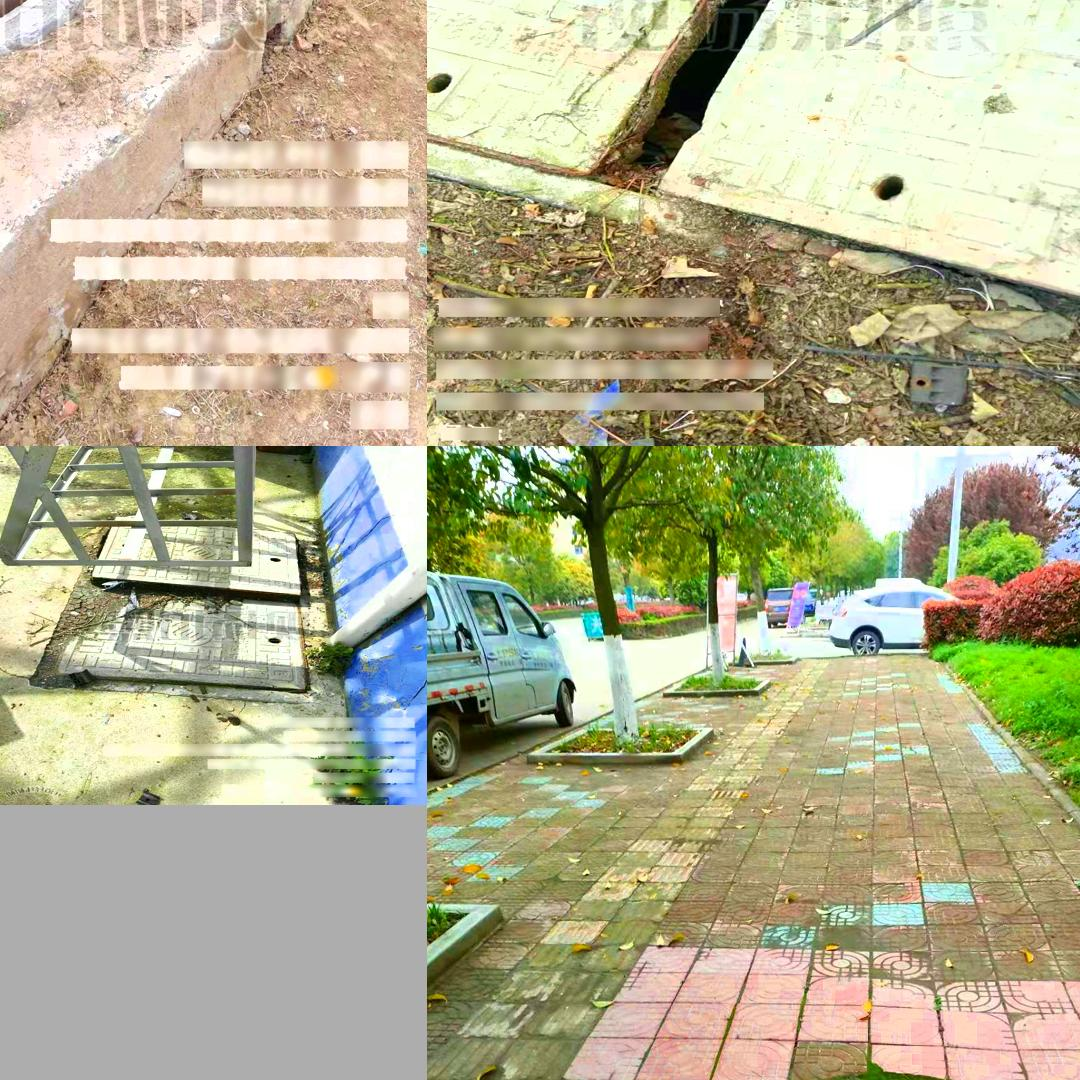uncovered: (430, 0, 1080, 304), (32, 518, 312, 700), (0, 0, 71, 61)
